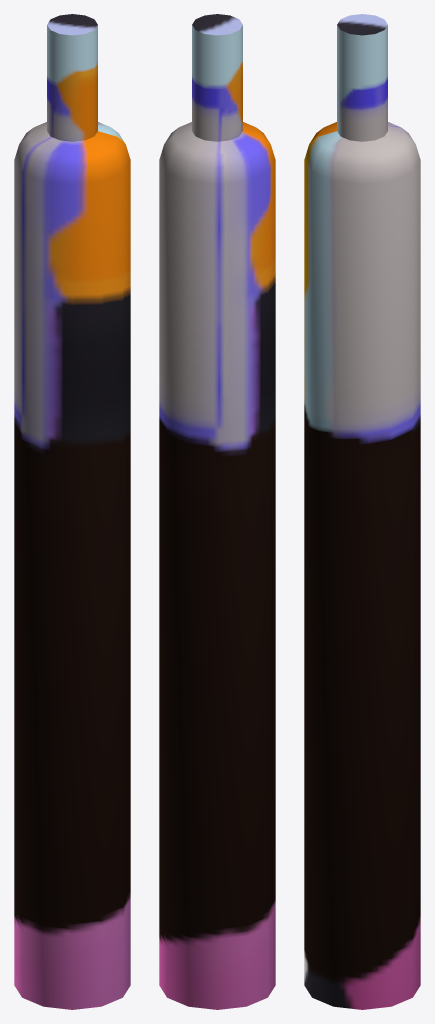
File: dif10.1.fbx
3 views of the same model, side by side, from view 1: azimuth 90°, elevation 25°; view 2: azimuth 150°, elevation 25°; view 3: azimuth 270°, elevation 25° (orthographic).
Parts seen in each view (by area): view 1: Cylinder.006; view 2: Cylinder.006; view 3: Cylinder.006.
Boxes of the visible parts, bbox=[...] form: Cylinder.006: bbox=[14, 14, 130, 1009]; Cylinder.006: bbox=[159, 14, 275, 1009]; Cylinder.006: bbox=[304, 14, 420, 1009].
Bounding box in the file's own units: 86.2 × 786 × 86.2.
